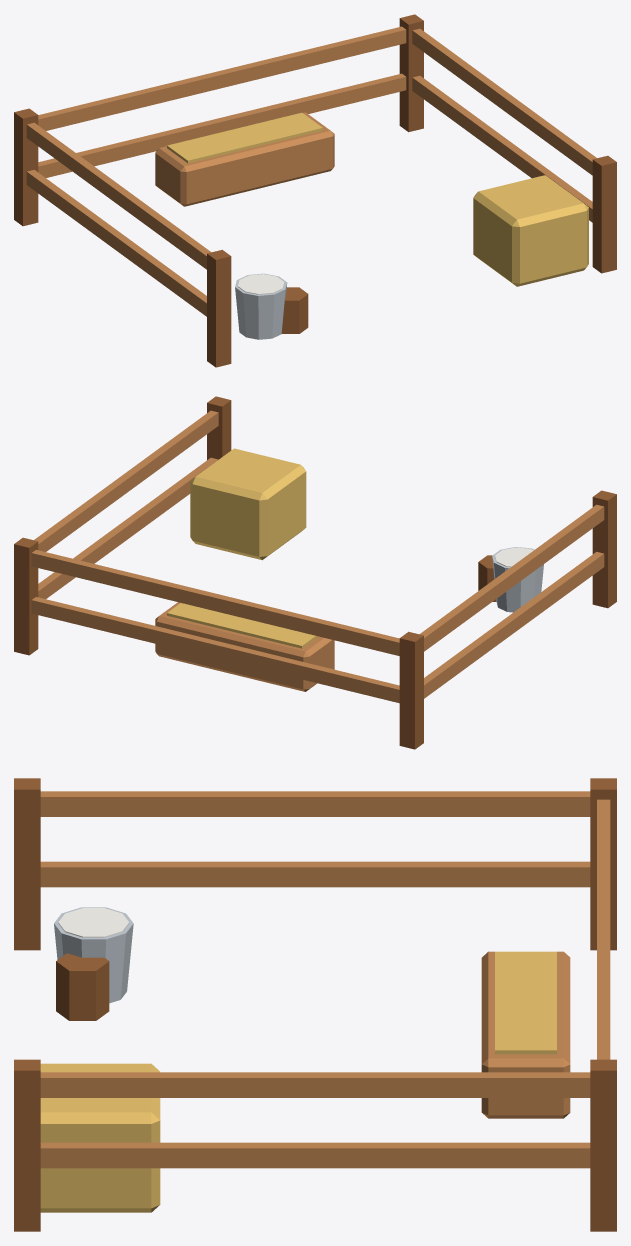
Rendered from station_cow_pen.glb.
The picture shows the model from 3 angles, top to bottom: view 1: azimuth 30°, elevation 25°; view 2: azimuth 150°, elevation 25°; view 3: azimuth 270°, elevation 25°; orthographic projection. The views are drawn at different scales.
Parts seen in each view (by area): view 1: station_cow_pen; view 2: station_cow_pen; view 3: station_cow_pen.
Part boxes in pixels (x1,y1,x2,y2): station_cow_pen: (14,14,616,367); station_cow_pen: (14,396,616,749); station_cow_pen: (14,778,616,1231).
Bounding box in the file's own units: 3.12 × 0.805 × 2.72.
